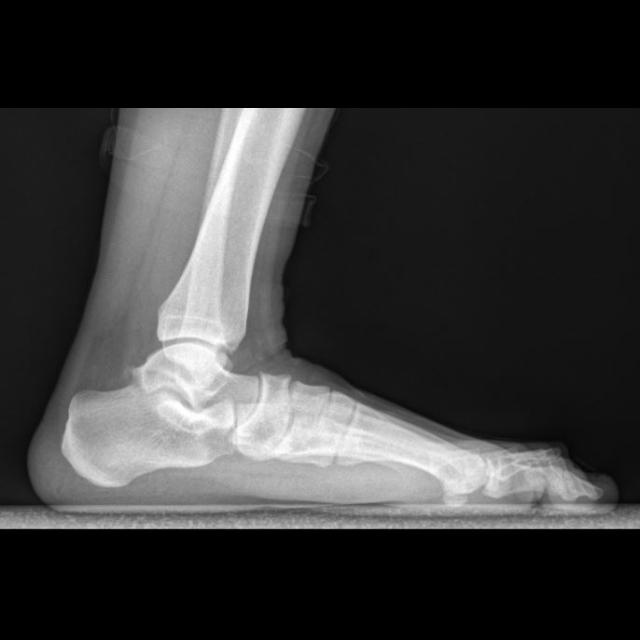a: (62, 369, 236, 487)
b: (236, 372, 292, 459)
c: (337, 400, 487, 510)
